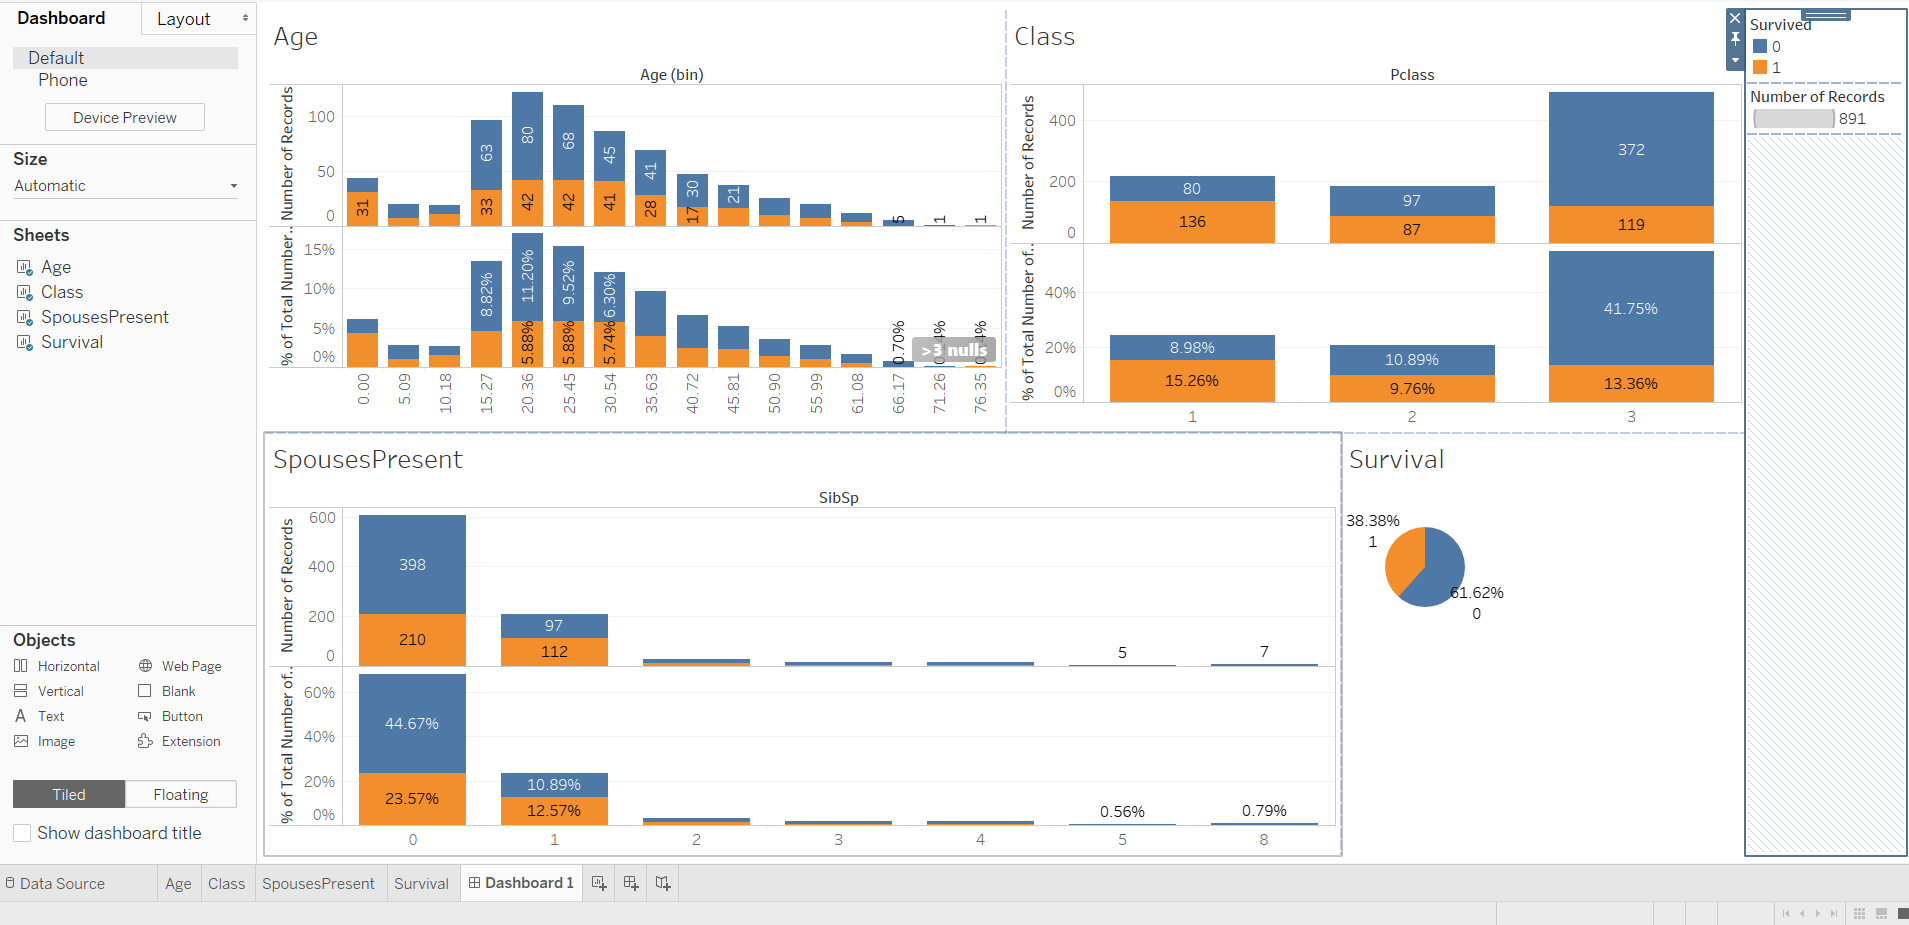

Layout of this report page (visuals, bound fields, positions):
{"tool":"tableau","page":{"name":"Dashboard 1","canvas":[1000,1000],"units":"permille","ordinal":0},"visuals":[{"type":"worksheet","title":"Age","mark":"Automatic","rows":["Number of Records","Number of Records"],"cols":["Age (bin)"],"box":[4.8,9.3,446.9,490.7]},{"type":"worksheet","title":"Class","mark":"Automatic","rows":["Number of Records","Number of Records"],"cols":["Pclass"],"box":[451.7,9.3,446.9,490.7]},{"type":"legend","title":"Age","param":"[federated.1se9p4h1rvda5119im33g1mp8o7u].[none:Survived:ok]","box":[898.6,9.3,96.6,83.6]},{"type":"legend","title":"Survival","param":"[federated.1se9p4h1rvda5119im33g1mp8o7u].[sum:Number of Records:qk]","box":[898.6,92.9,96.6,59.2]},{"type":"worksheet","title":"SpousesPresent","mark":"Automatic","rows":["Number of Records","Number of Records"],"cols":["SibSp"],"box":[4.8,500,649.4,490.7]},{"type":"worksheet","title":"Survival","mark":"Pie","box":[654.2,500,244.4,490.7]}]}

Visuals, with their boxes on the dashboard's canvas, which has no fixed pixel size, in thousandths of its width and height (x1, y1, x2, y2). These are canvas units, not pixel positions in the 1909x925 screenshot, which may show the page scaled, cropped or inside an application window:
"Age" worksheet: x1=5 y1=9 x2=452 y2=500
"Class" worksheet: x1=452 y1=9 x2=899 y2=500
"Age" legend: x1=899 y1=9 x2=995 y2=93
"Survival" legend: x1=899 y1=93 x2=995 y2=152
"SpousesPresent" worksheet: x1=5 y1=500 x2=654 y2=991
"Survival" worksheet (Pie marks): x1=654 y1=500 x2=899 y2=991
